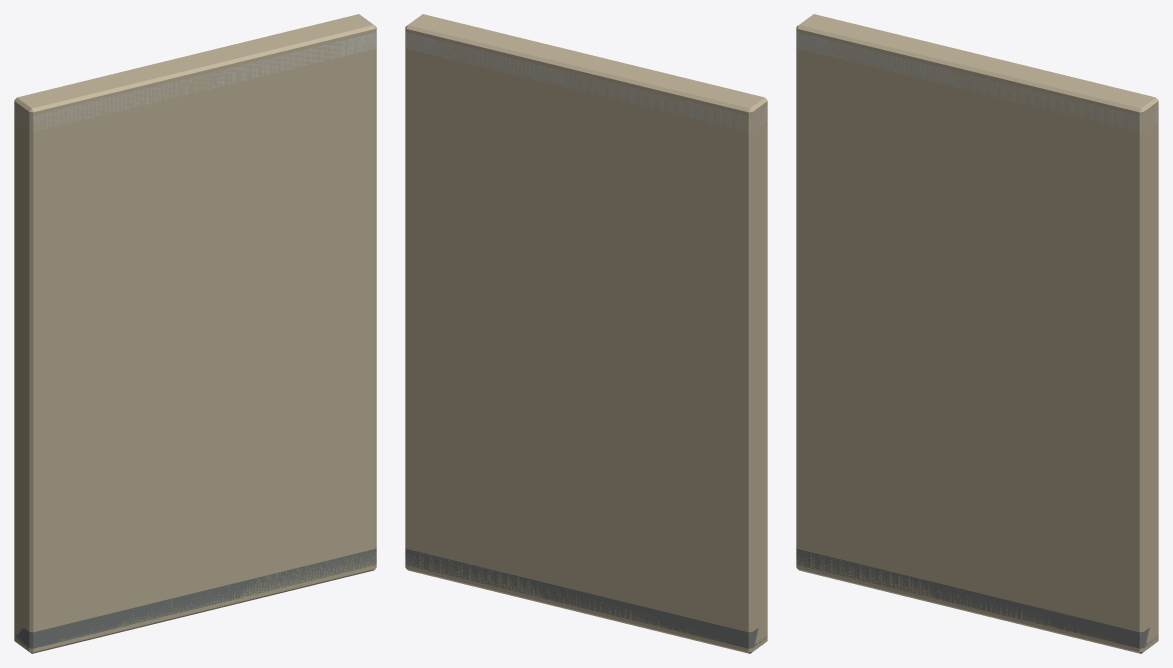
The model's file is architecture-wall.lod0.glb.
3 renders of one model, left to right at view 1: azimuth 30°, elevation 25°; view 2: azimuth 150°, elevation 25°; view 3: azimuth 330°, elevation 25°, orthographic.
Parts seen in each view (by area): view 1: architecture-wall__body; view 2: architecture-wall__body; view 3: architecture-wall__body.
Part boxes in pixels (left/top/right/bottom): architecture-wall__body: left=14, top=14, right=376, bottom=653; architecture-wall__body: left=405, top=14, right=767, bottom=653; architecture-wall__body: left=796, top=14, right=1158, bottom=653.
Bounding box in the file's own units: 2 × 3 × 0.18.
